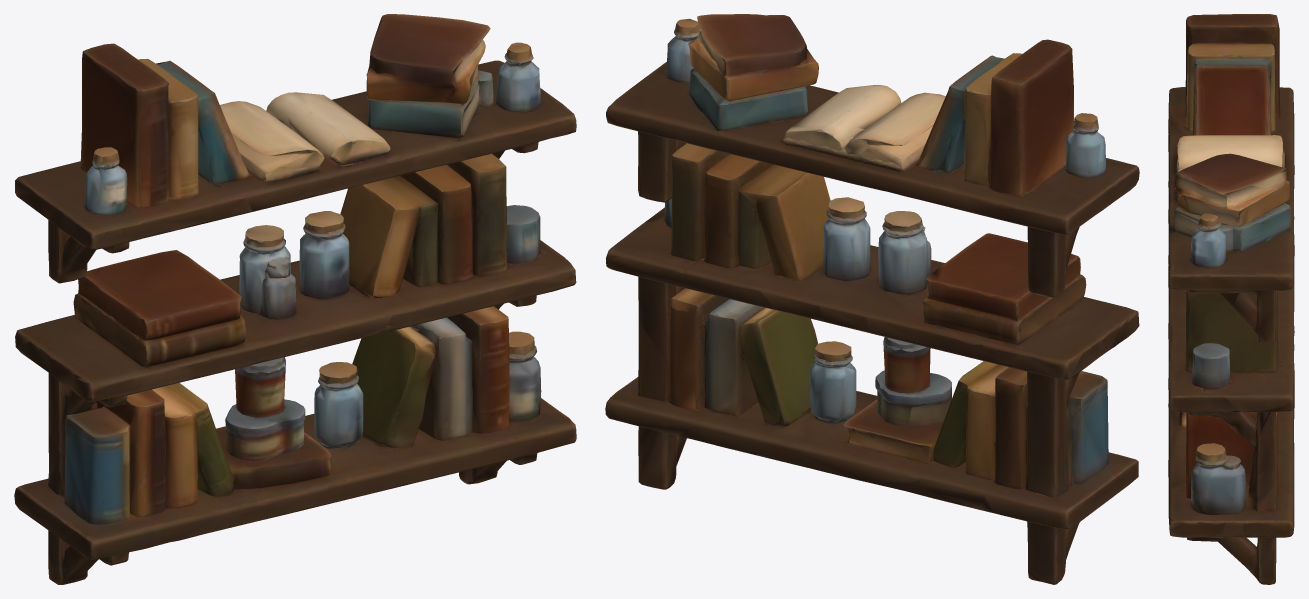
File: shelf.glb
3 renders of one model, left to right at view 1: azimuth 30°, elevation 25°; view 2: azimuth 150°, elevation 25°; view 3: azimuth 270°, elevation 25°, orthographic. The views are drawn at different scales.
Visible parts, largest first — view 1: Mesh; view 2: Mesh; view 3: Mesh.
Part boxes in pixels (x1,y1,x2,y2): Mesh: (14, 14, 576, 584); Mesh: (605, 14, 1139, 584); Mesh: (1168, 14, 1294, 584).
Bounding box in the file's own units: 1.85 × 1.89 × 0.5214.
1 material, 1 textured.
